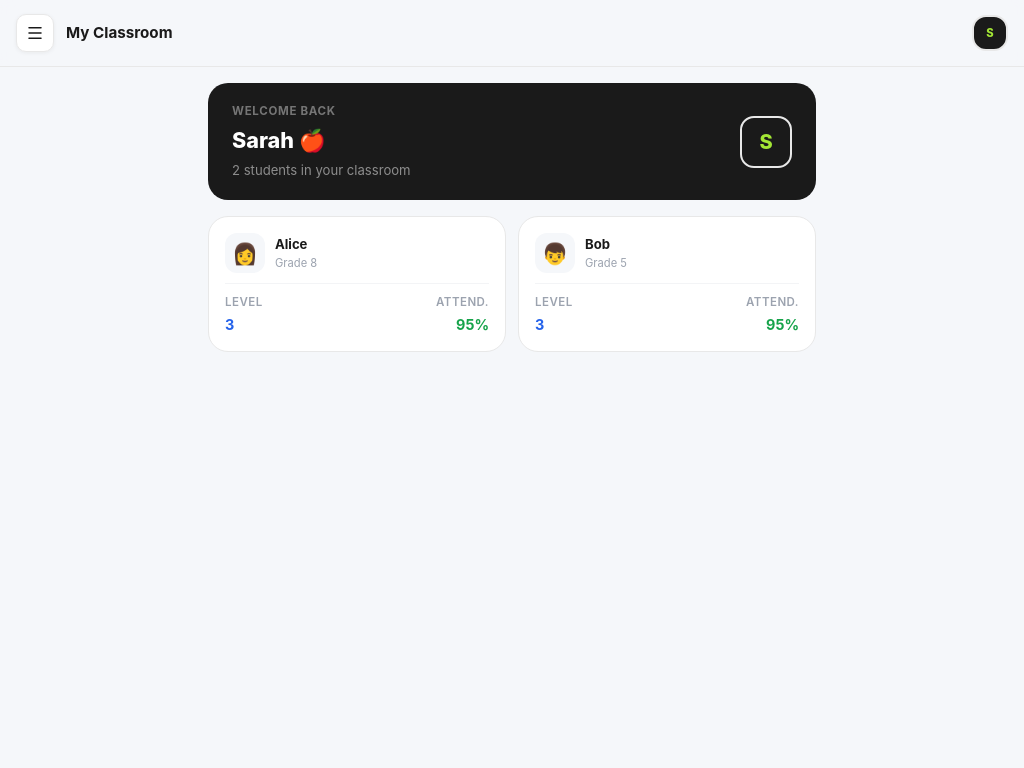
Test case: TeacherDashboard Component › navigates to student detail and shows CBC strands
Click the text "Alice".
click(291, 244)  # box [275,236,307,252]
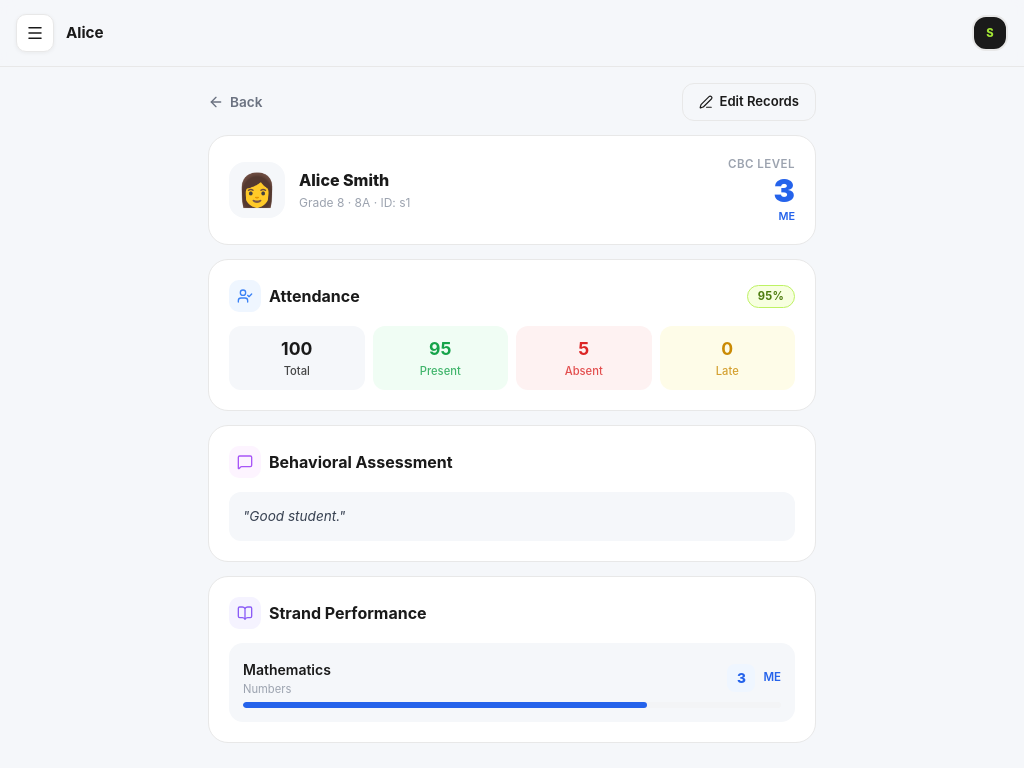
Now the text "Alice Smith" is shown, box [299,170,389,190]
Now the text "Grade 8 · 8A · ID: s1" is shown, box [299,195,410,210]
Now the text "Strand Performance" is shown, box [269,601,427,625]
